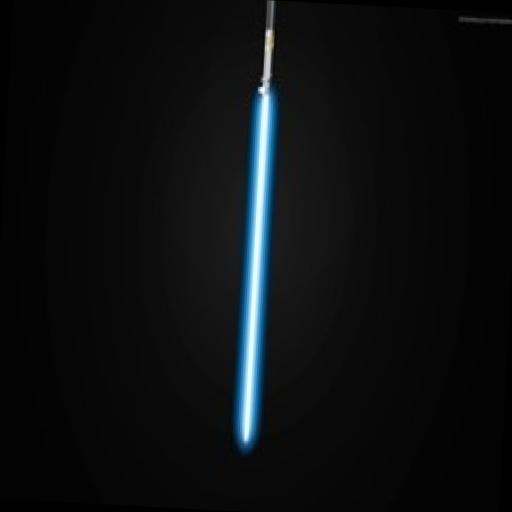lightsaber: (228, 0, 287, 452)
